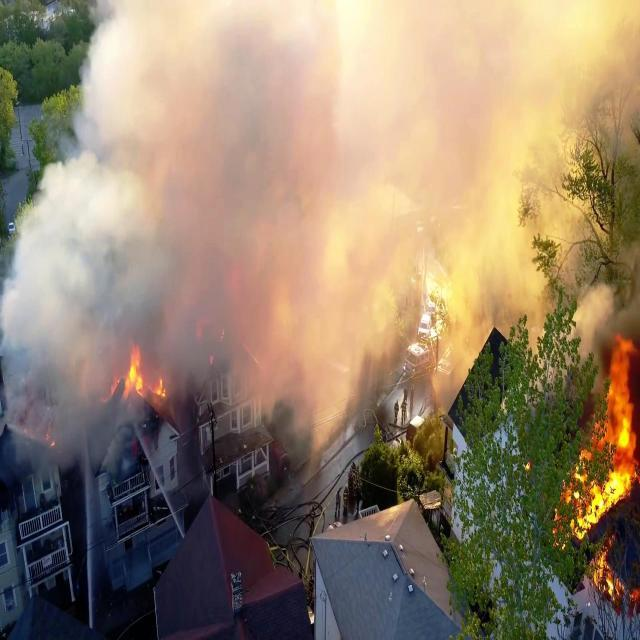Fire: (562, 329, 640, 526), (112, 338, 170, 396)
Smoke: (110, 0, 452, 246)
